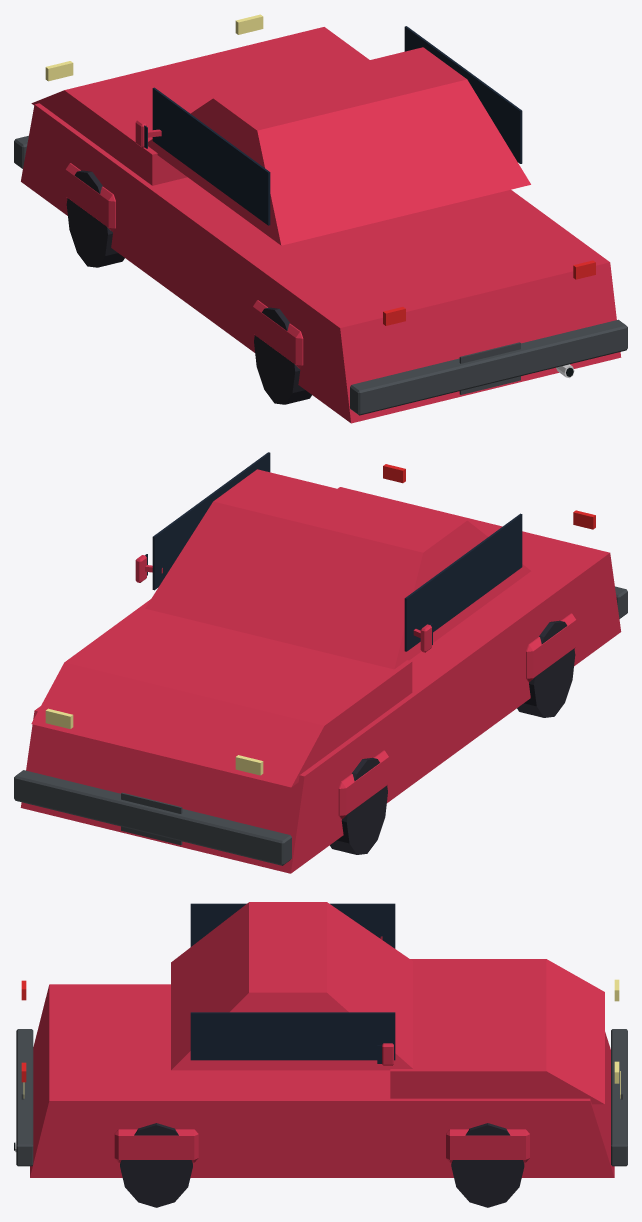
Rendered from urban_compact_hatchback.fbx.
3 renders of one model, top to bottom at view 1: azimuth 30°, elevation 25°; view 2: azimuth 150°, elevation 25°; view 3: azimuth 270°, elevation 25°, orthographic. The views are drawn at different scales.
Visible parts, largest first — view 1: urban_compact_hatchback; view 2: urban_compact_hatchback; view 3: urban_compact_hatchback.
Part boxes in pixels (<box>): urban_compact_hatchback: <box>14,14,627,423</box>; urban_compact_hatchback: <box>14,452,627,873</box>; urban_compact_hatchback: <box>14,902,627,1207</box>.
Size of the model in its own units: 620 by 460 by 1280.
